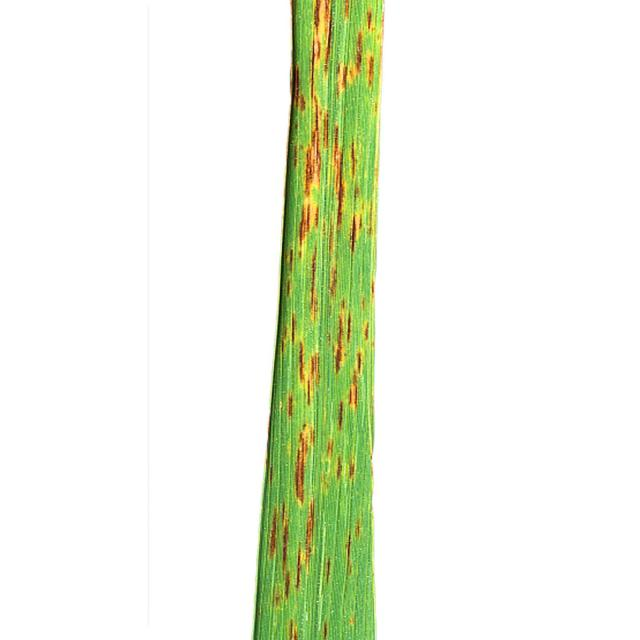Narrow brown: (233, 0, 424, 640)
